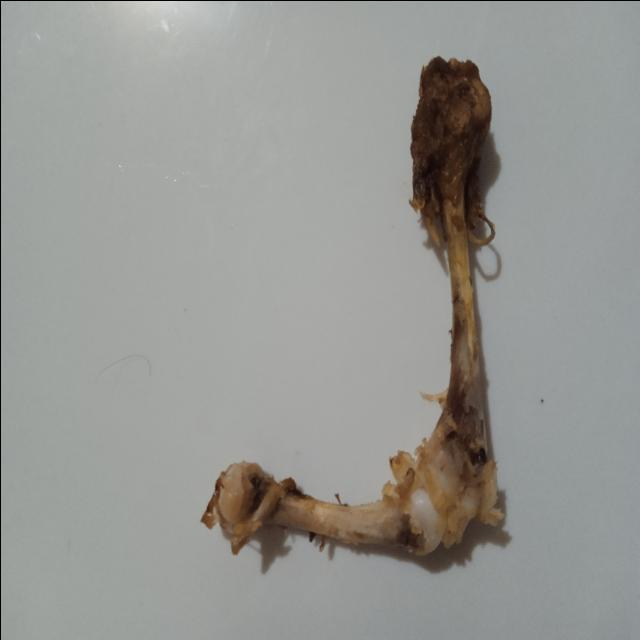bone: (194, 44, 522, 594)
